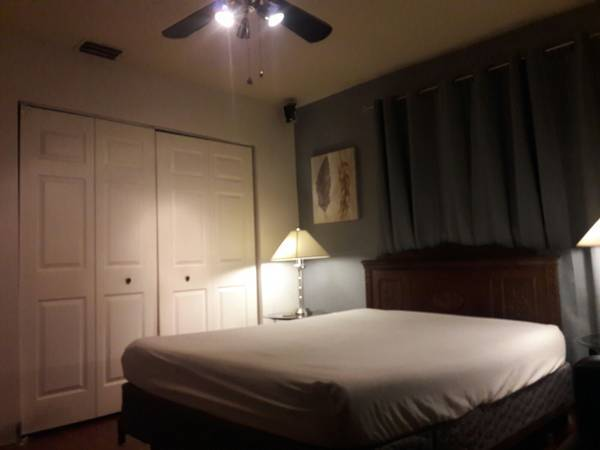bed: (122, 268, 572, 449)
